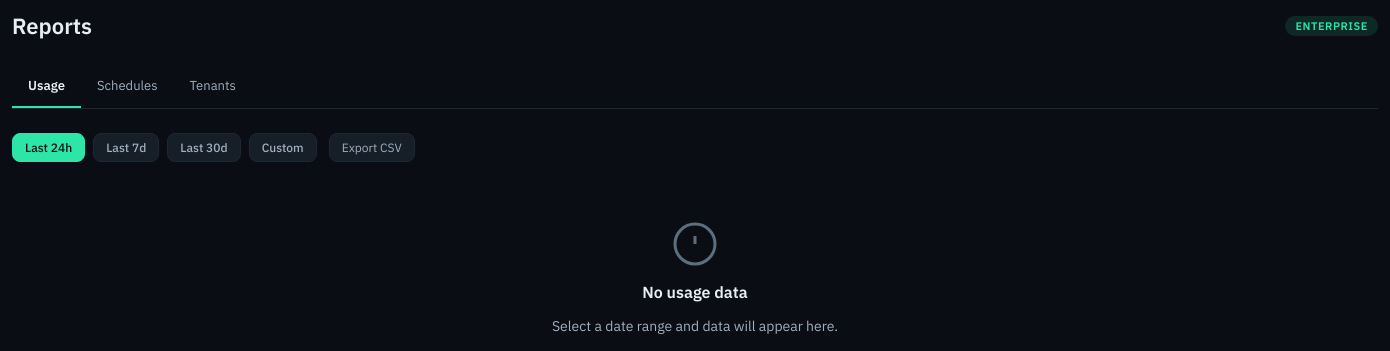
Test: ReportsPage tenants tab › shows meta tag badge on tenant with tag matchers
The width and height of the screenshot is (1390, 351).
Click the tab "Tenants" at (213, 86), box [174,64,252,108]
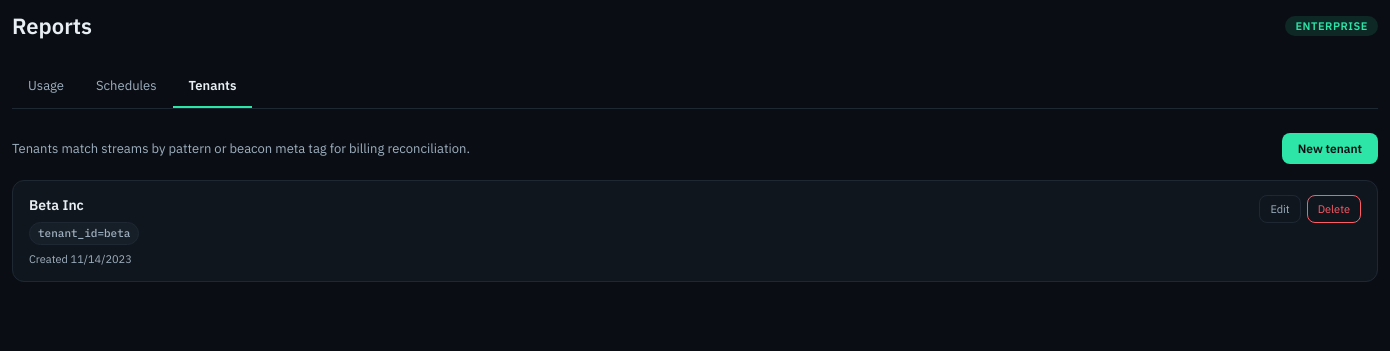
Now the text "tenant_id=beta" is shown, box [29,222,139,244]
